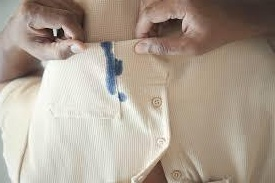ink: (104, 44, 115, 94), (116, 60, 122, 76), (118, 92, 126, 102)
